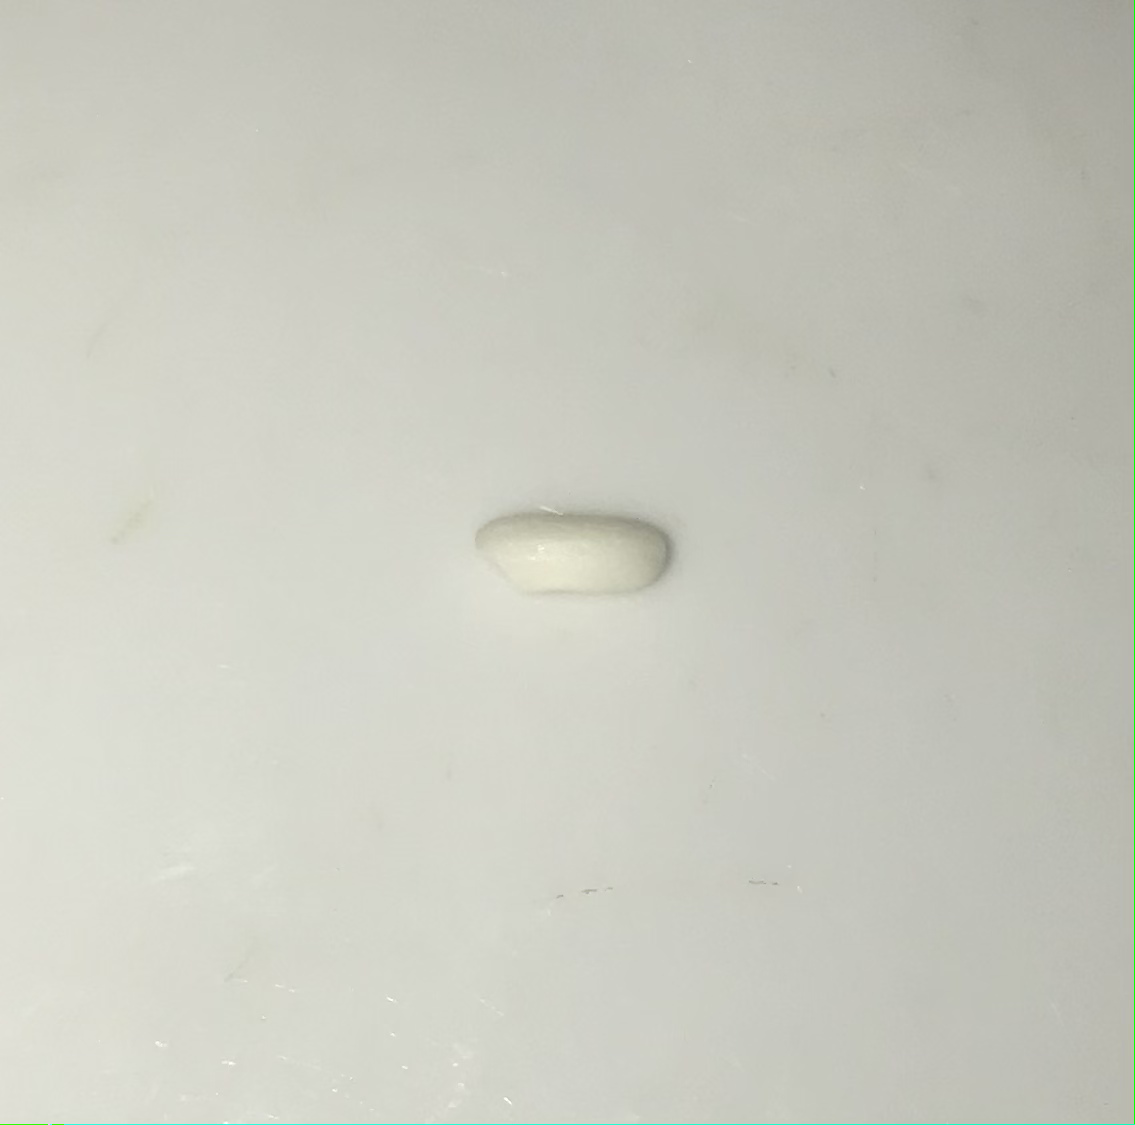Gao Nep Sap: (459, 486, 697, 625)
